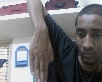hand: (27, 29, 55, 82)
